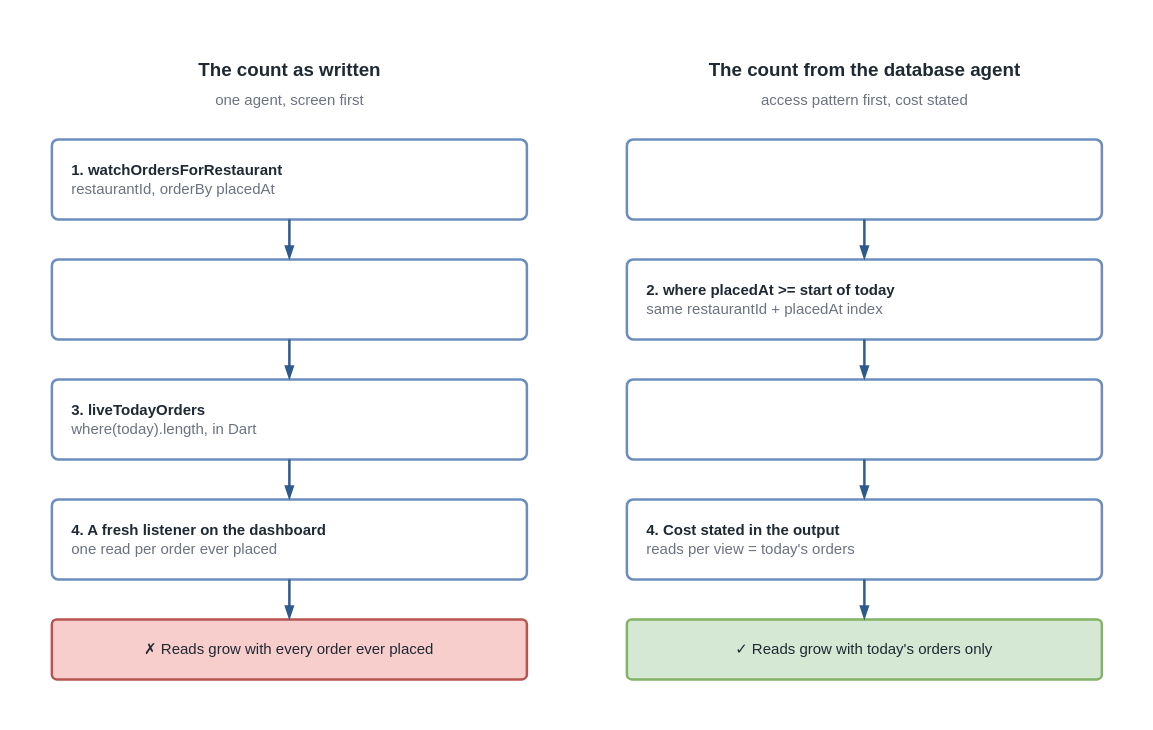
Some shapes in this 1153 by 730 pixel diagram are drawn without their labels. Here are the shapes that lost their labels. From the top down, the centre of each, then its label:
At (x=863, y=179): "1. Access pattern, one line today's orders for one restaurant".
At (x=289, y=299): "2. No date bound the whole order history streams in".
At (x=863, y=419): "3. Or a daily counter document incremented by placeOrder".
